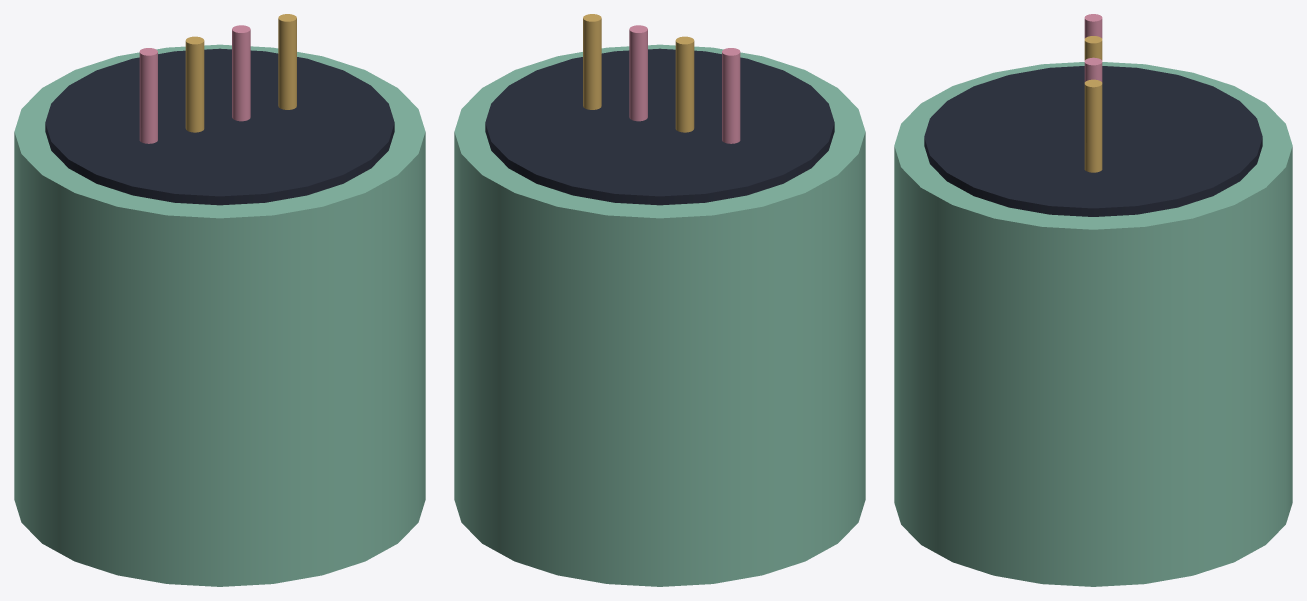
Rendered from pen-cup.glb.
3 views of the same model, side by side, from view 1: azimuth 30°, elevation 25°; view 2: azimuth 150°, elevation 25°; view 3: azimuth 270°, elevation 25° (orthographic). The views are drawn at different scales.
Visible parts, largest first — view 1: pen-cup; view 2: pen-cup; view 3: pen-cup.
Part boxes in pixels (box(x1,y1,x2,y2)): pen-cup: box(14, 14, 425, 586); pen-cup: box(454, 14, 865, 586); pen-cup: box(894, 14, 1292, 586).
Bounding box in the file's own units: 8 × 10 × 8.
